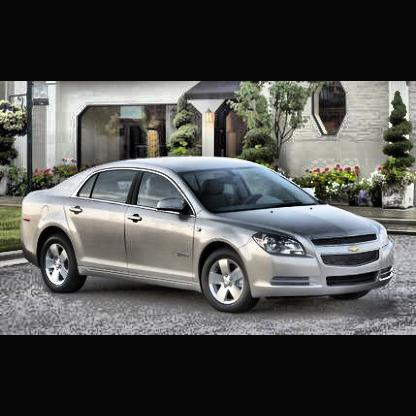Chevrolet Malibu Hybrid Sedan 2010: (23, 158, 396, 317)
